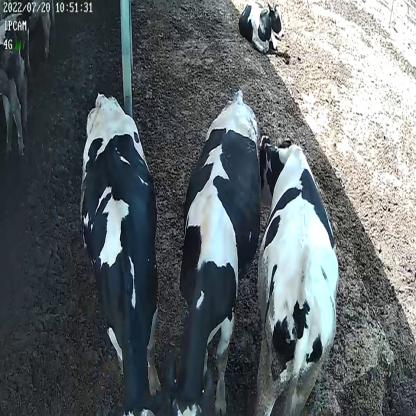cow: (163, 88, 264, 416), (80, 92, 162, 416), (256, 125, 338, 416), (235, 1, 288, 57)
